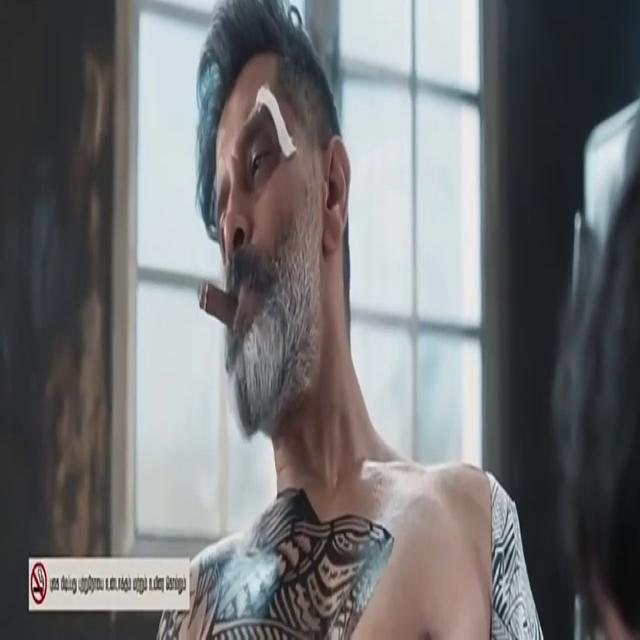smoking: (156, 147, 382, 435)
